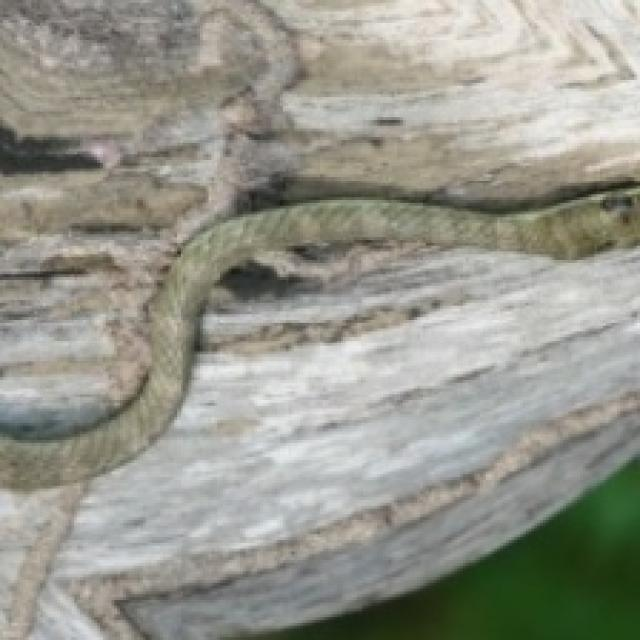paradise tree snake: (0, 0, 637, 637), (0, 186, 637, 637)
